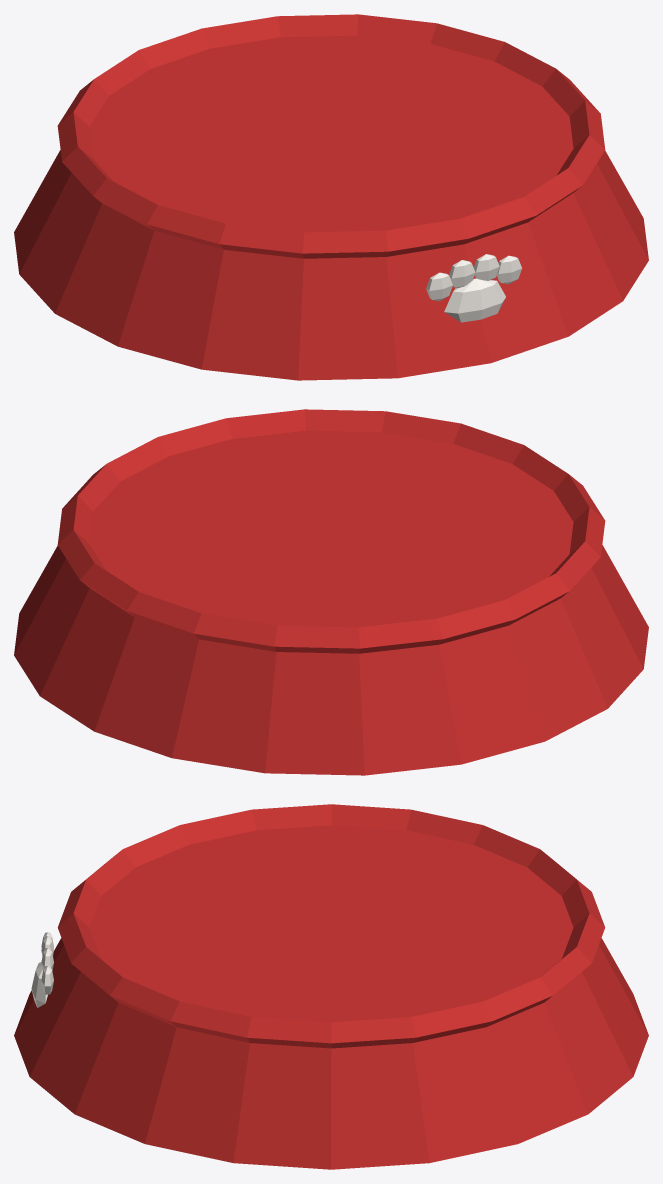
Rendered from cat_bowl.glb.
3 renders of one model, top to bottom at view 1: azimuth 30°, elevation 25°; view 2: azimuth 150°, elevation 25°; view 3: azimuth 270°, elevation 25°, orthographic.
Visible parts, largest first — view 1: cat_bowl; view 2: cat_bowl; view 3: cat_bowl.
Boxes of the visible parts, left/top/right/bottom form: cat_bowl: left=14, top=14, right=648, bottom=380; cat_bowl: left=14, top=409, right=648, bottom=775; cat_bowl: left=14, top=804, right=648, bottom=1169.
Size of the model in its own units: 0.32 by 0.068 by 0.32.
